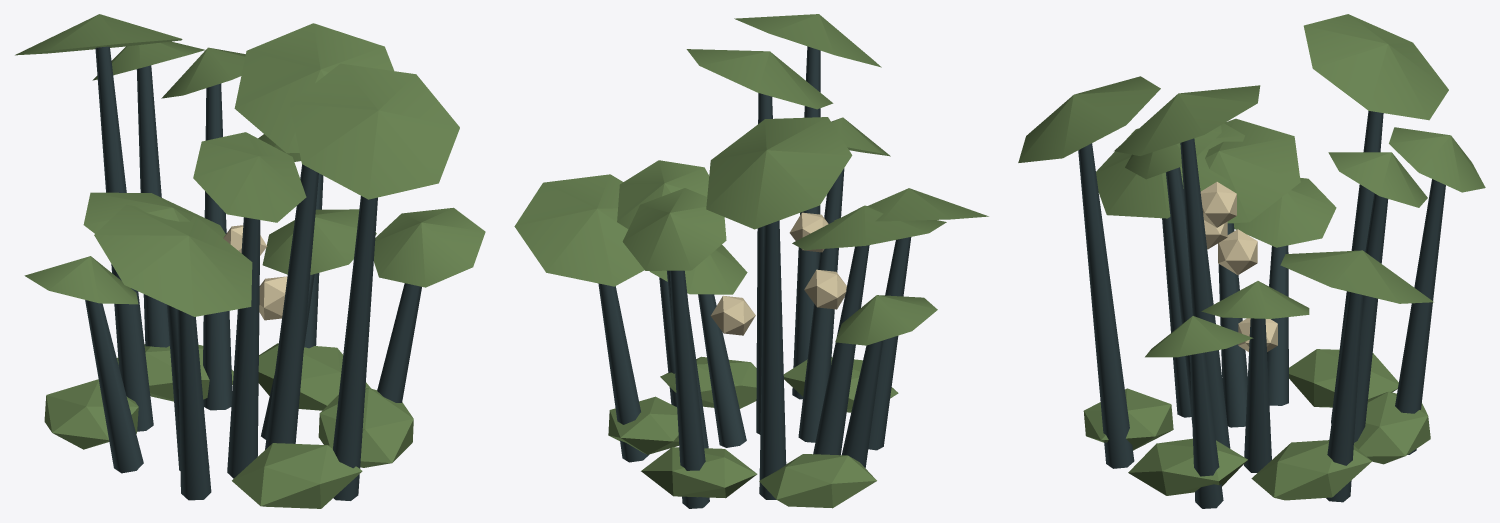
Rendered from moss-fan.glb.
3 renders of one model, left to right at view 1: azimuth 30°, elevation 25°; view 2: azimuth 150°, elevation 25°; view 3: azimuth 270°, elevation 25°, orthographic. The views are drawn at different scales.
Parts seen in each view (by area): view 1: moss-fan; view 2: moss-fan; view 3: moss-fan.
Boxes of the visible parts, <box> form: moss-fan: <box>15,14,485,508</box>; moss-fan: <box>514,14,988,508</box>; moss-fan: <box>1018,14,1485,508</box>.
Size of the model in its own units: 1.65 by 1.64 by 1.81.
